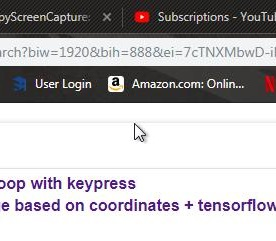cursor: (132, 121, 147, 142)
